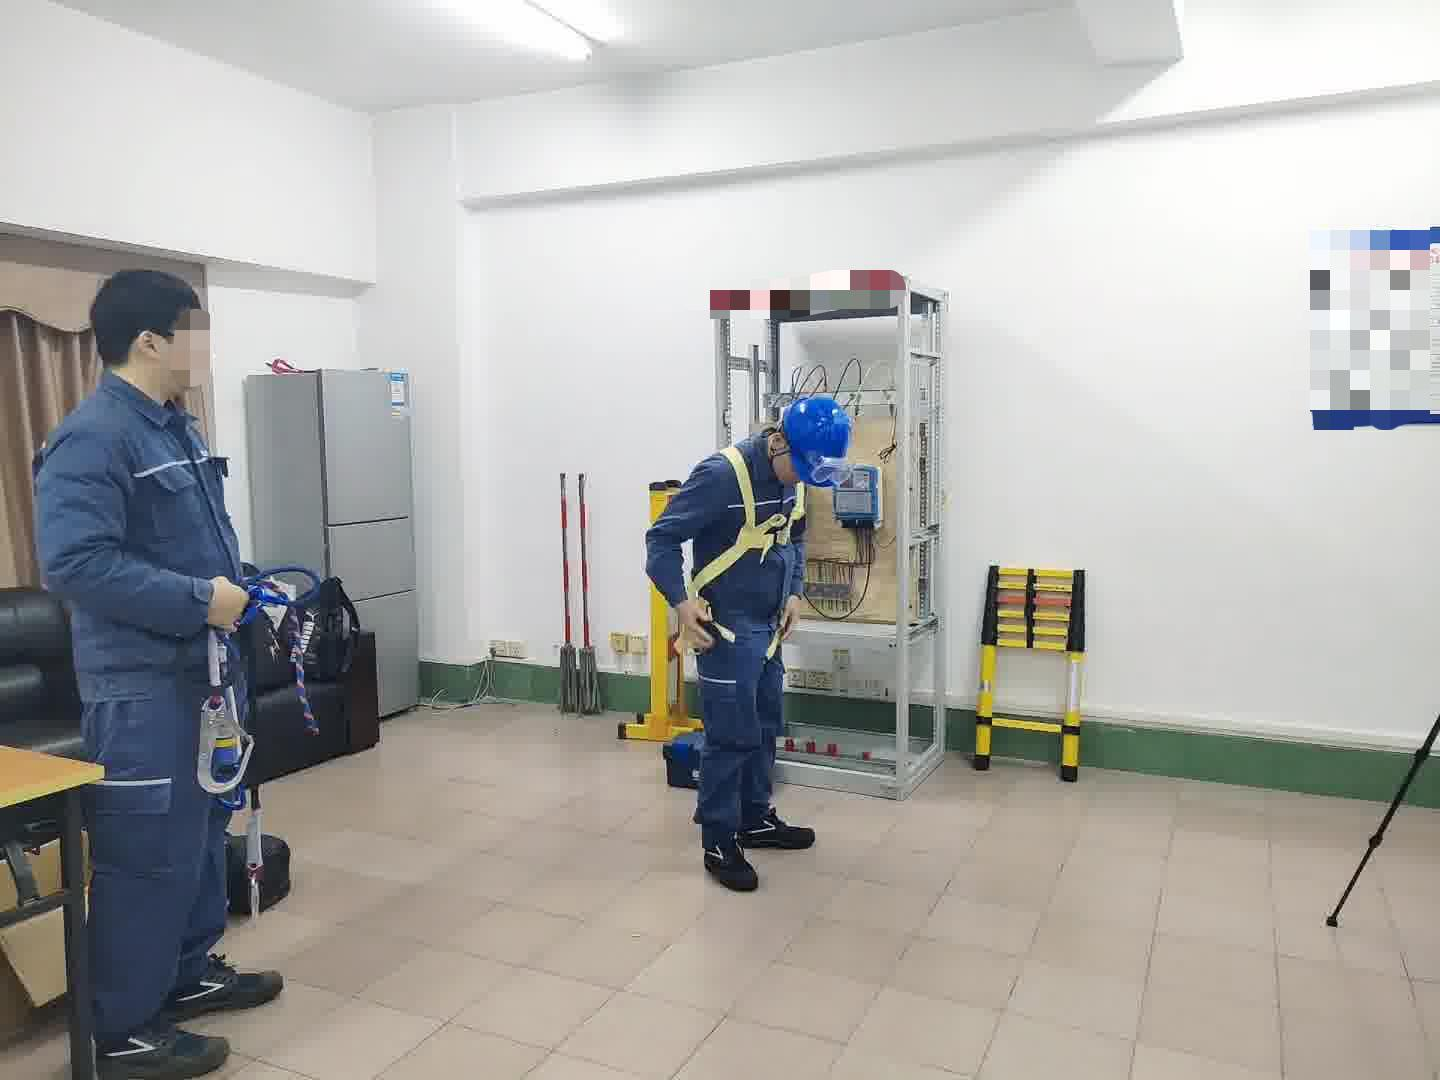halt: (782, 396, 856, 490)
inear: (760, 427, 793, 464)
noear: (126, 327, 178, 383)
unhalt: (90, 269, 217, 400)
